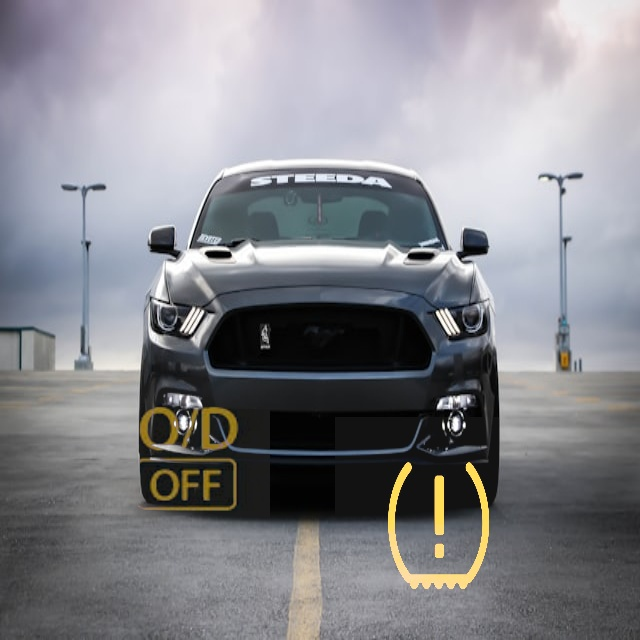symbol: (335, 417, 542, 624), (103, 377, 270, 544)
